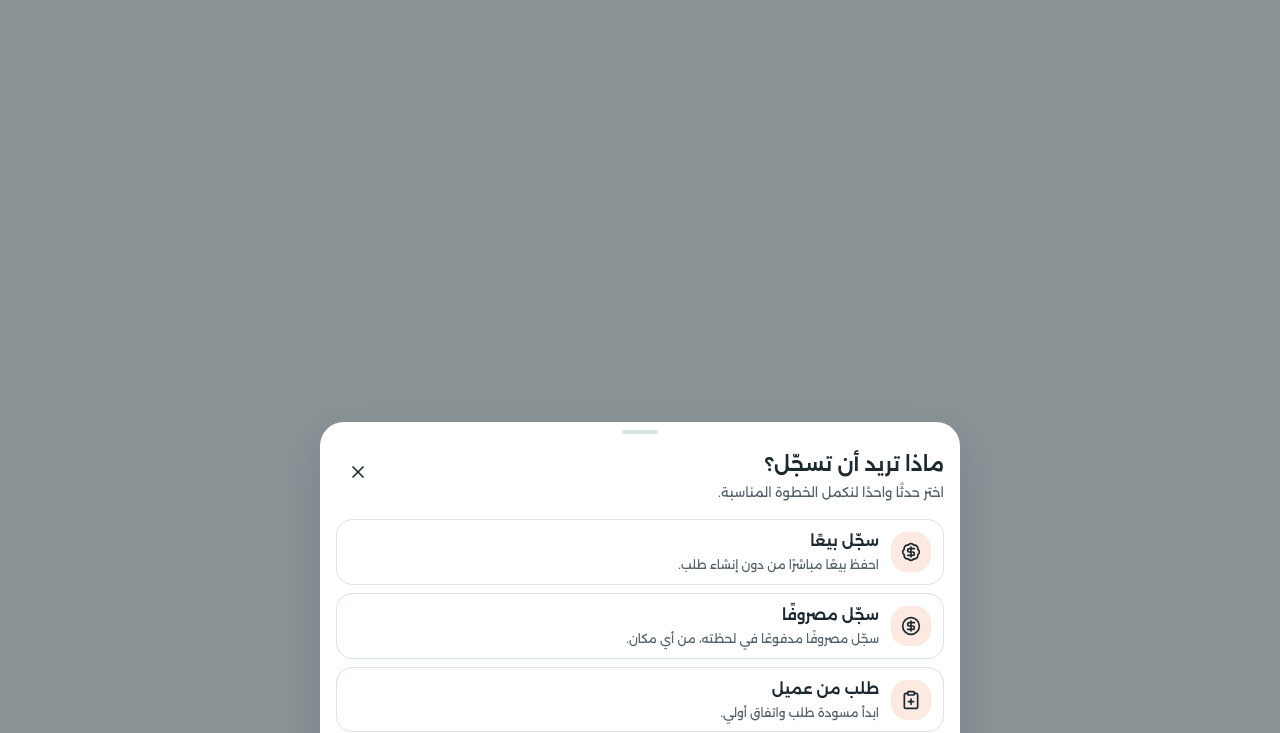
QuickActionSheet quiet unsaved-input guard › expense typed note also asks before closing
The image size is (1280, 733).
Click the button "سجّل مصروفًا سجّل مصروفًا مدفوعًا في لحظته، من أي مكان." at (911, 625), box [336,592,944,658]
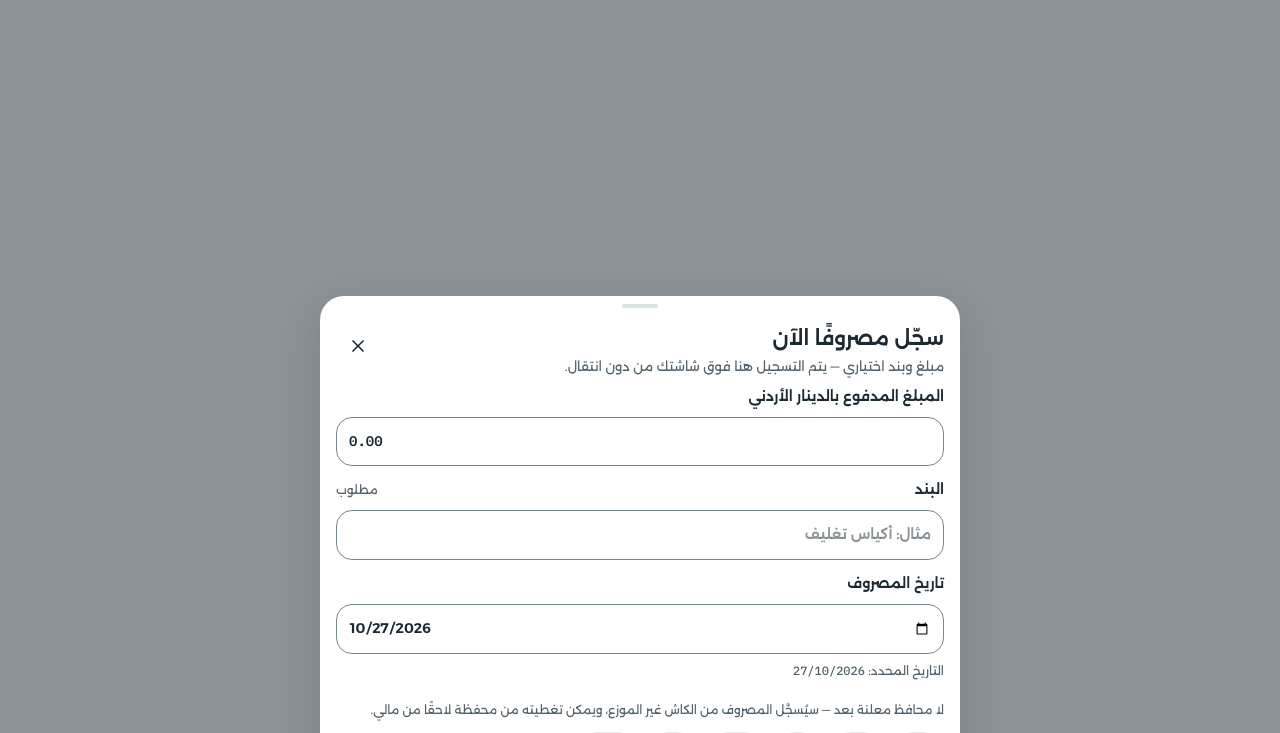
Type "أكياس تغليف" into the field labelled "البند مطلوب" at (640, 535), box [336,510,944,560]
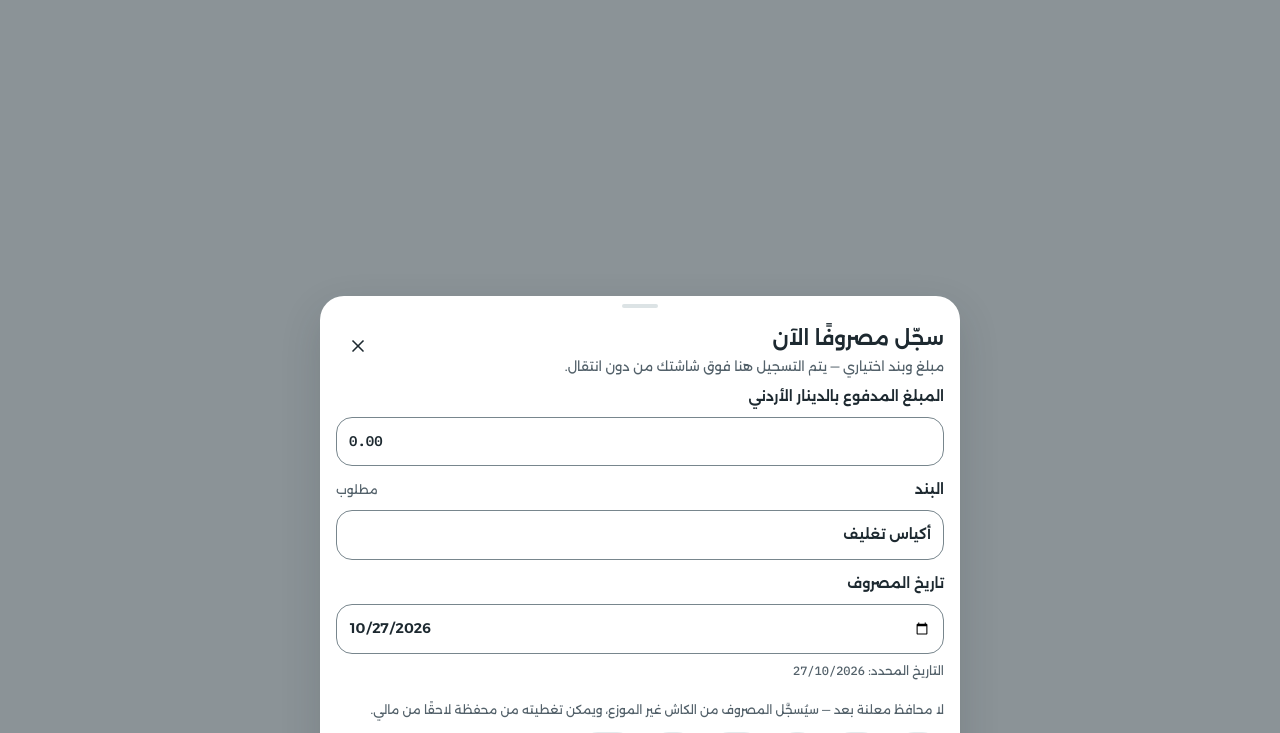
Click the button named "إغلاق" at (358, 346), box [336,324,380,368]
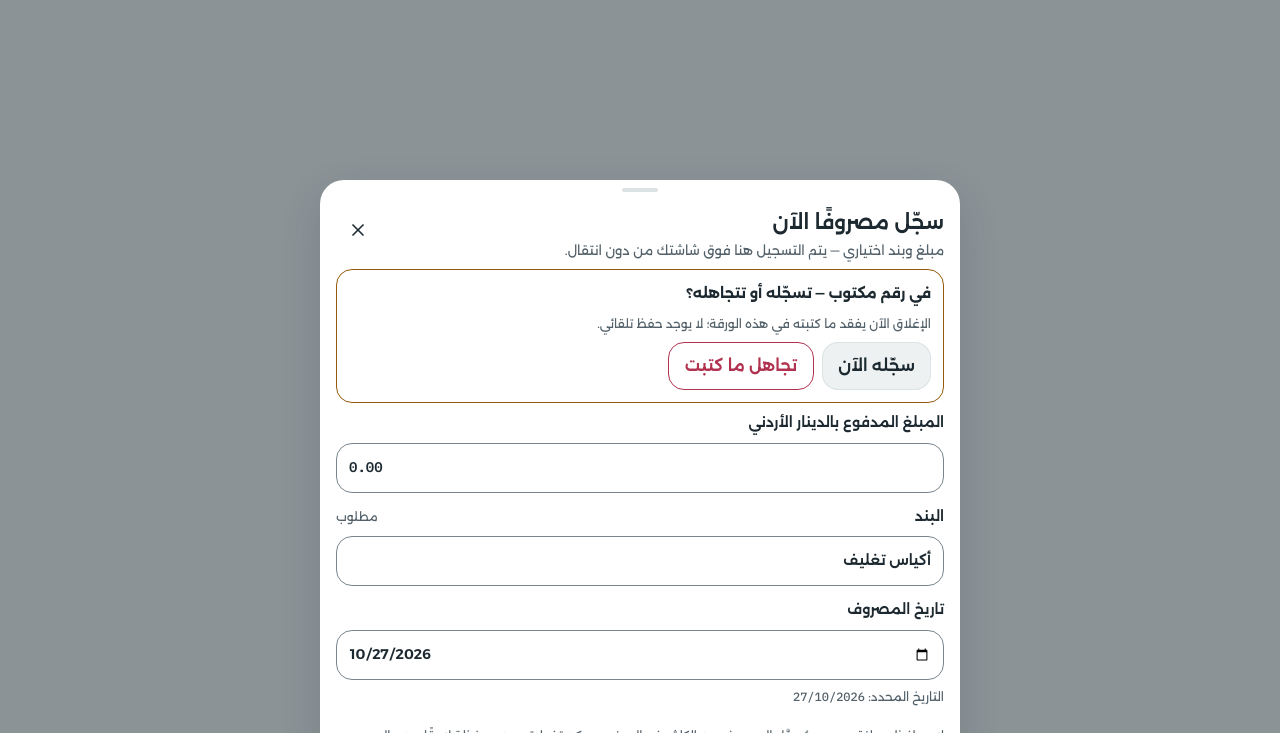
Expected: the dialog is shown, [336,269,944,403]
